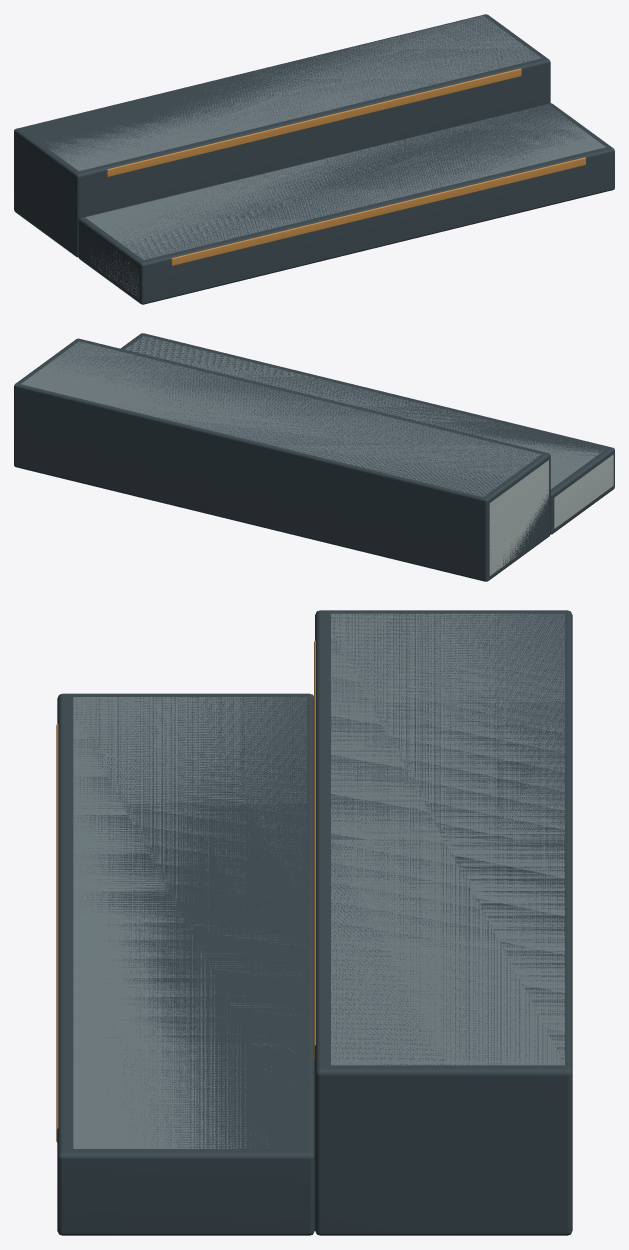
File: CatwalkLanding.fbx
3 views of the same model, one above another, from view 1: azimuth 30°, elevation 25°; view 2: azimuth 150°, elevation 25°; view 3: azimuth 270°, elevation 25° (orthographic). The views are drawn at different scales.
Parts seen in each view (by area): view 1: FoundryFrame Mesh.001, FoundryFloor Mesh.001, CatwalkSafetyPaint Mesh.001, FoundryCeramic Mesh.001; view 2: FoundryFrame Mesh.001, FoundryFloor Mesh.001, FoundryCeramic Mesh.001; view 3: FoundryFrame Mesh.001, FoundryFloor Mesh.001, CatwalkSafetyPaint Mesh.001.
Part boxes in pixels (x1,y1,x2,y2): FoundryFrame Mesh.001: (14, 14, 614, 304); FoundryFloor Mesh.001: (46, 16, 605, 259); CatwalkSafetyPaint Mesh.001: (107, 68, 585, 265); FoundryCeramic Mesh.001: (89, 239, 139, 298); FoundryFrame Mesh.001: (14, 333, 614, 581); FoundryFloor Mesh.001: (21, 336, 603, 496); FoundryCeramic Mesh.001: (489, 454, 613, 575); FoundryFrame Mesh.001: (57, 610, 572, 1235); FoundryFloor Mesh.001: (73, 613, 564, 1148); CatwalkSafetyPaint Mesh.001: (56, 640, 315, 1142).
Size of the model in its own units: 2.38 by 0.4 by 1.12.
